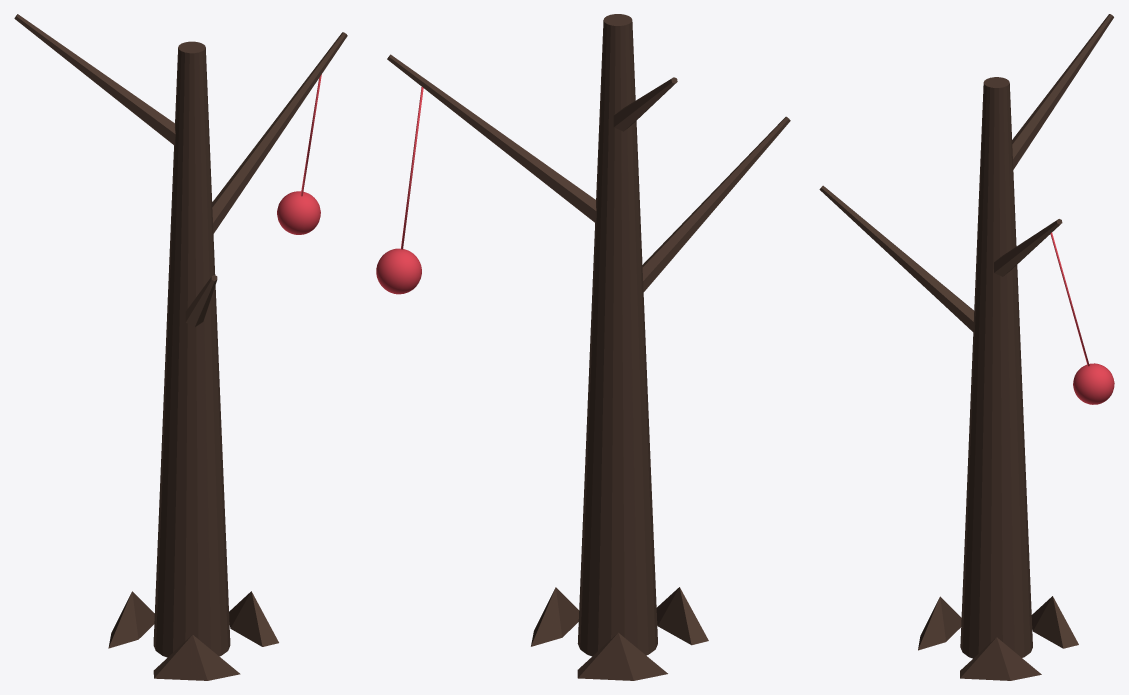
The model's file is zc_dead_tree.godot.glb.
3 views of the same model, side by side, from view 1: azimuth 30°, elevation 25°; view 2: azimuth 150°, elevation 25°; view 3: azimuth 270°, elevation 25° (orthographic). The views are drawn at different scales.
Parts seen in each view (by area): view 1: tree_trunk, yarn_ball; view 2: tree_trunk, yarn_ball; view 3: tree_trunk, yarn_ball.
Boxes of the visible parts, x1,y1,x2,y2 form: tree_trunk: [14, 14, 347, 680]; yarn_ball: [277, 74, 321, 234]; tree_trunk: [387, 14, 790, 680]; yarn_ball: [376, 87, 423, 294]; tree_trunk: [819, 14, 1113, 680]; yarn_ball: [1050, 232, 1114, 404].
Size of what is drawn, in the model's own units: 1.28 by 2.47 by 1.14.
Materials: 1 (1 with a texture image).
